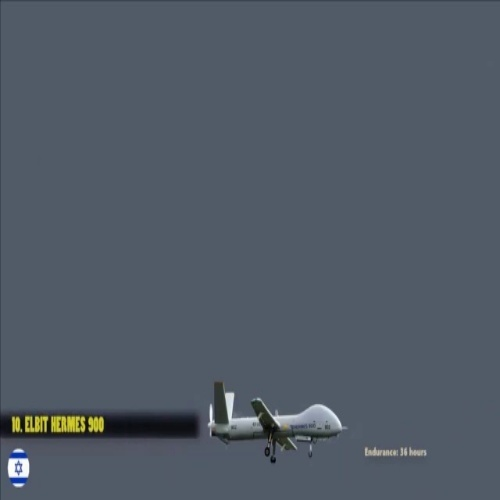uav770: (204, 380, 347, 464)
